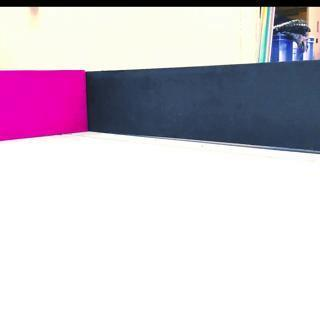xparking: (1, 70, 84, 132)
